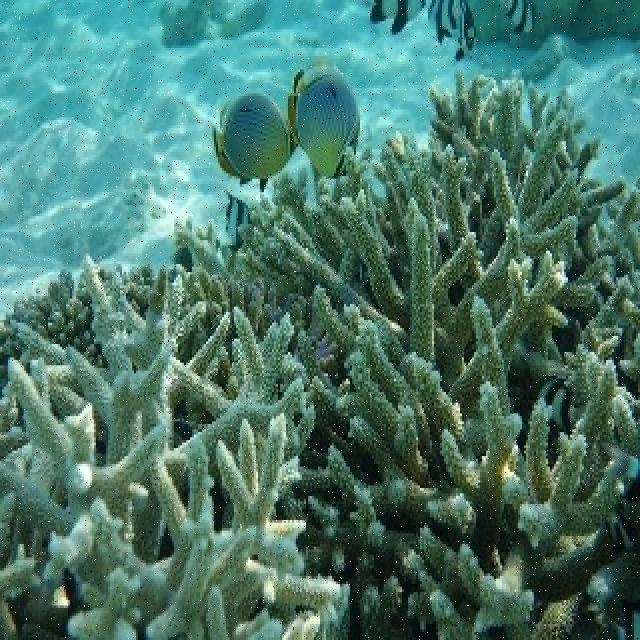fish: (212, 89, 299, 190), (288, 63, 361, 180), (426, 0, 477, 65), (366, 1, 424, 33), (494, 0, 542, 37), (224, 191, 250, 253)
reefs: (0, 65, 638, 637)
